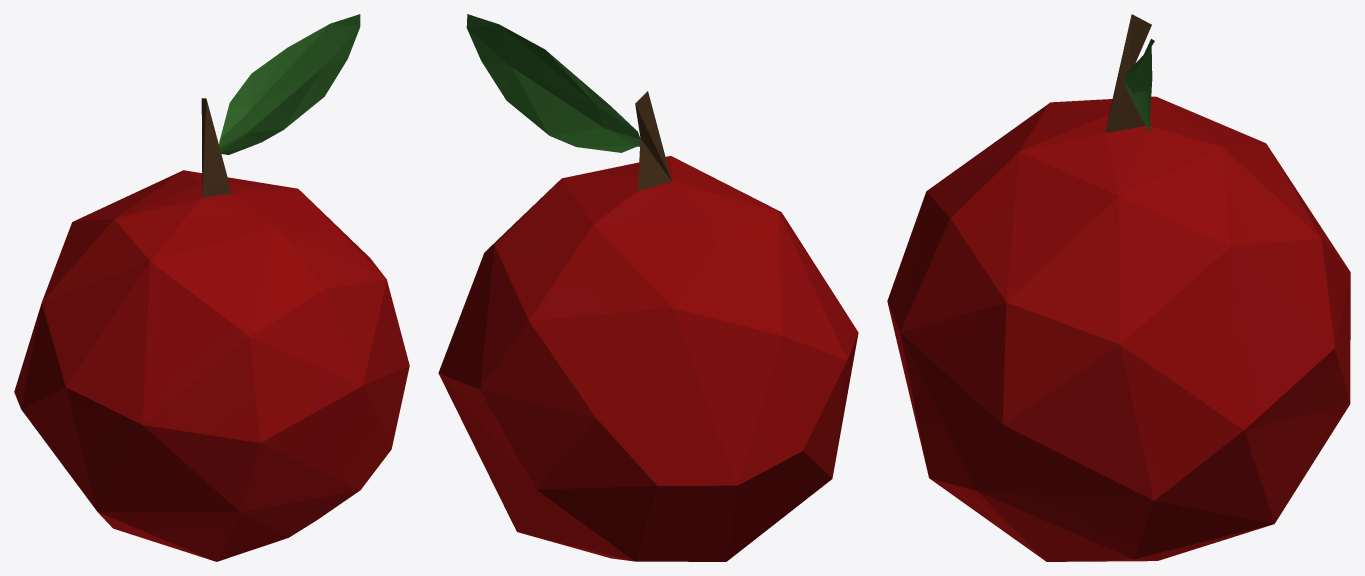
File: apple_0.fbx
3 views of the same model, side by side, from view 1: azimuth 30°, elevation 25°; view 2: azimuth 150°, elevation 25°; view 3: azimuth 270°, elevation 25° (orthographic). The views are drawn at different scales.
Visible parts, largest first — view 1: Apple; view 2: Apple; view 3: Apple.
Boxes of the visible parts, <box> form: Apple: <box>14,14,409,561</box>; Apple: <box>438,14,858,561</box>; Apple: <box>887,14,1350,561</box>.
Bounding box in the file's own units: 0.0552 × 0.0763 × 0.0553.
